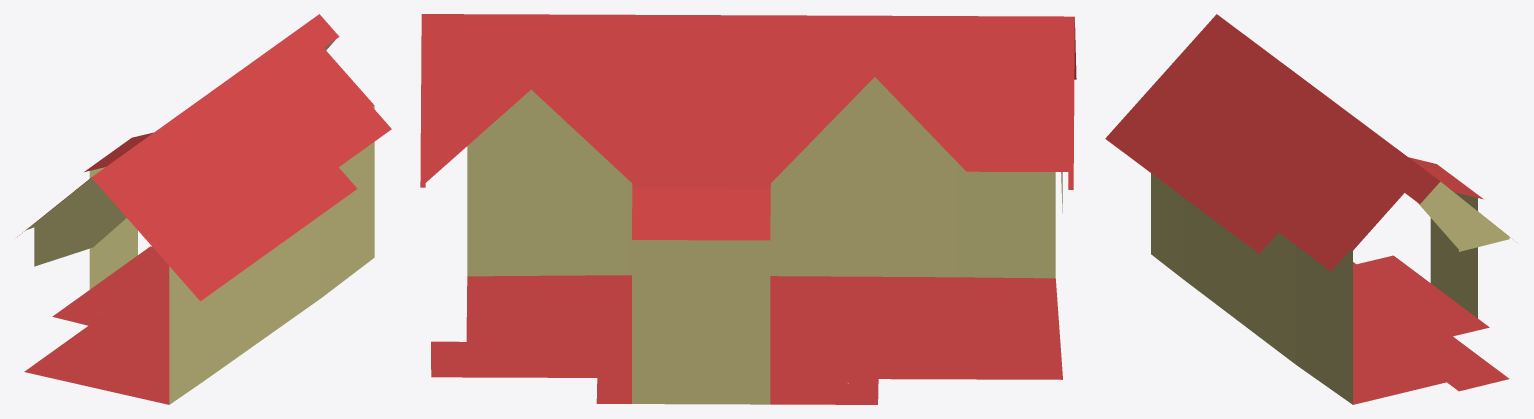
The picture shows the model from 3 angles, left to right: view 1: azimuth 30°, elevation 25°; view 2: azimuth 150°, elevation 25°; view 3: azimuth 270°, elevation 25°; orthographic projection. The views are drawn at different scales.
Size of the model in its own units: 31.19 by 27.98 by 16.21.
